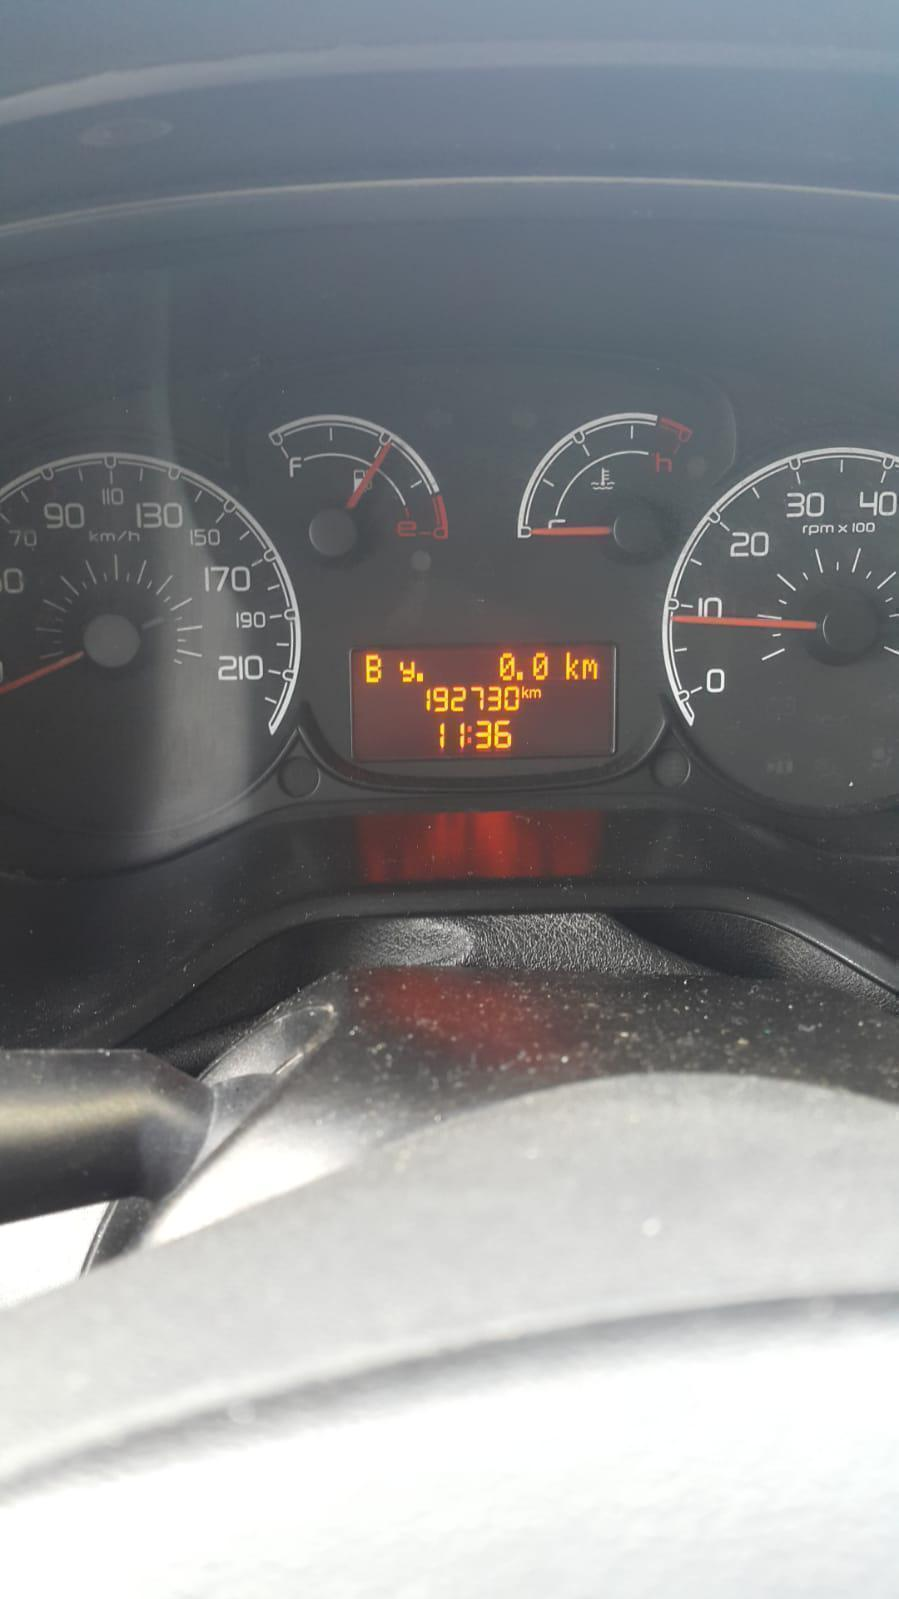0: (499, 651, 515, 681), (532, 652, 549, 680), (504, 686, 520, 711)
1: (436, 722, 447, 751), (456, 720, 465, 750), (424, 686, 432, 712)
2: (450, 685, 465, 713)
3: (474, 719, 492, 751), (487, 685, 501, 712)
6: (494, 719, 514, 749)
7: (469, 685, 486, 712)
9: (432, 685, 447, 713)
X: (363, 653, 382, 684), (565, 650, 580, 680), (397, 659, 415, 682), (583, 656, 597, 679), (467, 723, 473, 746), (529, 687, 542, 698), (415, 671, 424, 682), (521, 684, 528, 698), (516, 670, 524, 681)
odometer: (349, 646, 616, 754)
